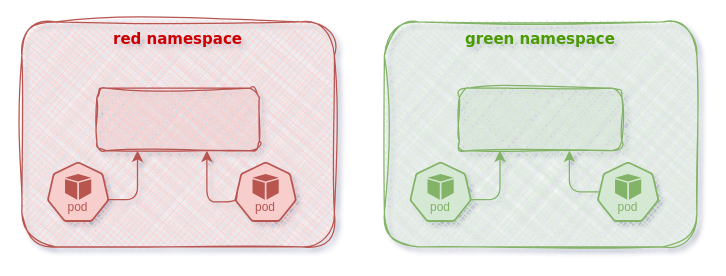
This 726x276 diagram has some shape labels left out. The shapes that lost their labels are listed below. From the top down, each one's centre as x and y in pixels, then its label:
At (177,119): "red network 192.0.2.0/24".
At (540,119): "green network 198.51.100.0/24".
